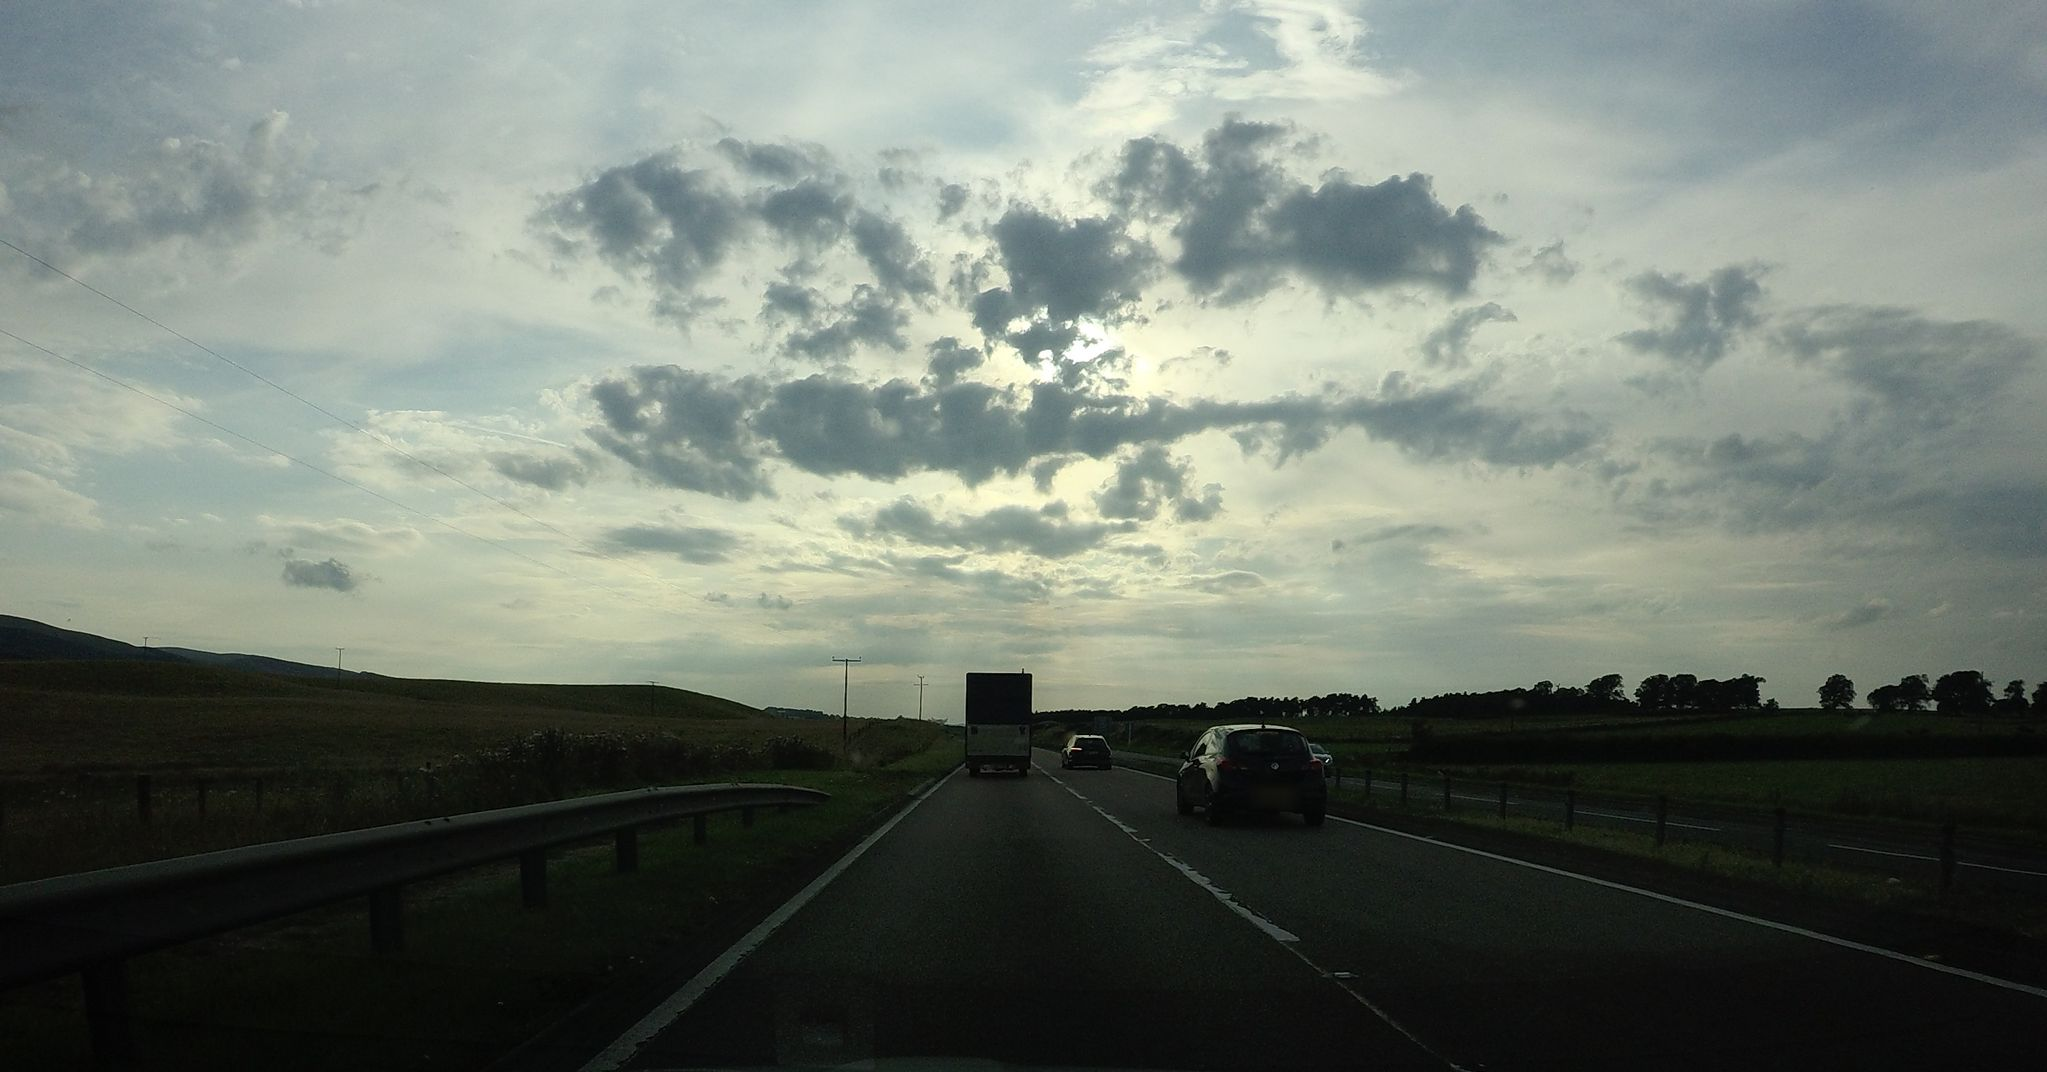car: (1175, 721, 1325, 827), (1061, 734, 1111, 770), (1306, 743, 1334, 777)
truck: (963, 669, 1033, 778)
